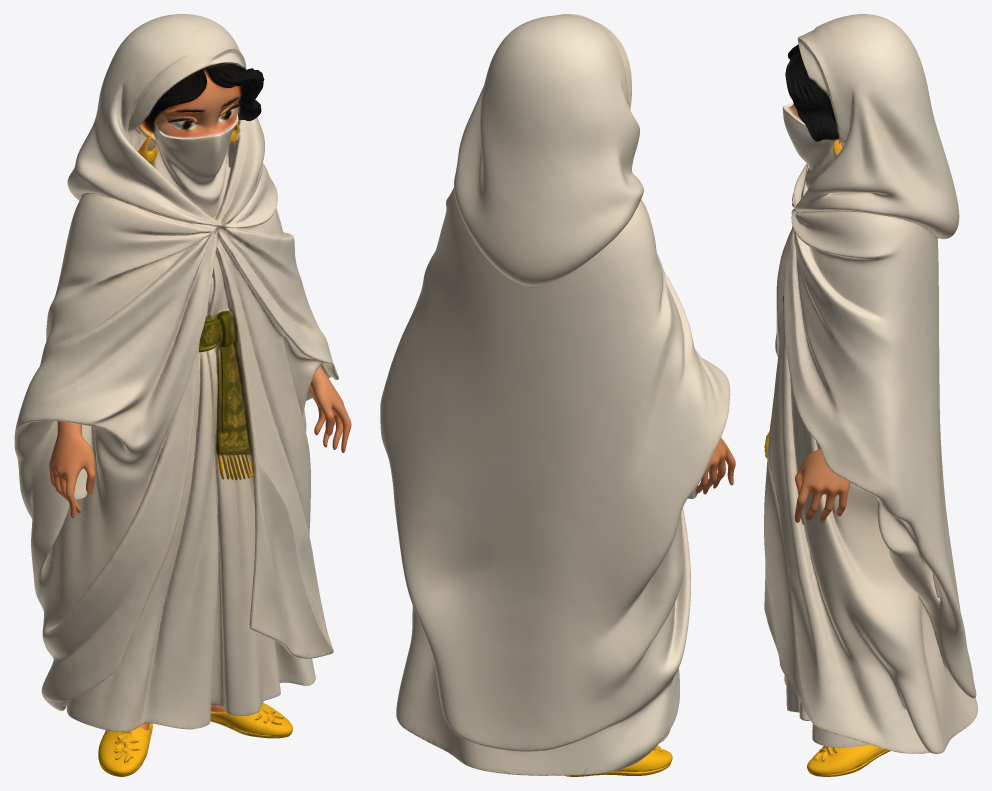
Rendered from zoubida_haik__base_basic_pbr.glb.
3 renders of one model, left to right at view 1: azimuth 30°, elevation 25°; view 2: azimuth 150°, elevation 25°; view 3: azimuth 270°, elevation 25°, orthographic. The views are drawn at different scales.
Parts seen in each view (by area): view 1: model; view 2: model; view 3: model.
Boxes of the visible parts, x1=… form: model: x1=14, y1=14, x2=351, y2=776; model: x1=380, y1=14, x2=735, y2=776; model: x1=764, y1=14, x2=977, y2=776.
Size of the model in its own units: 0.8822 by 1.9 by 0.5178.
1 material, 1 textured.
